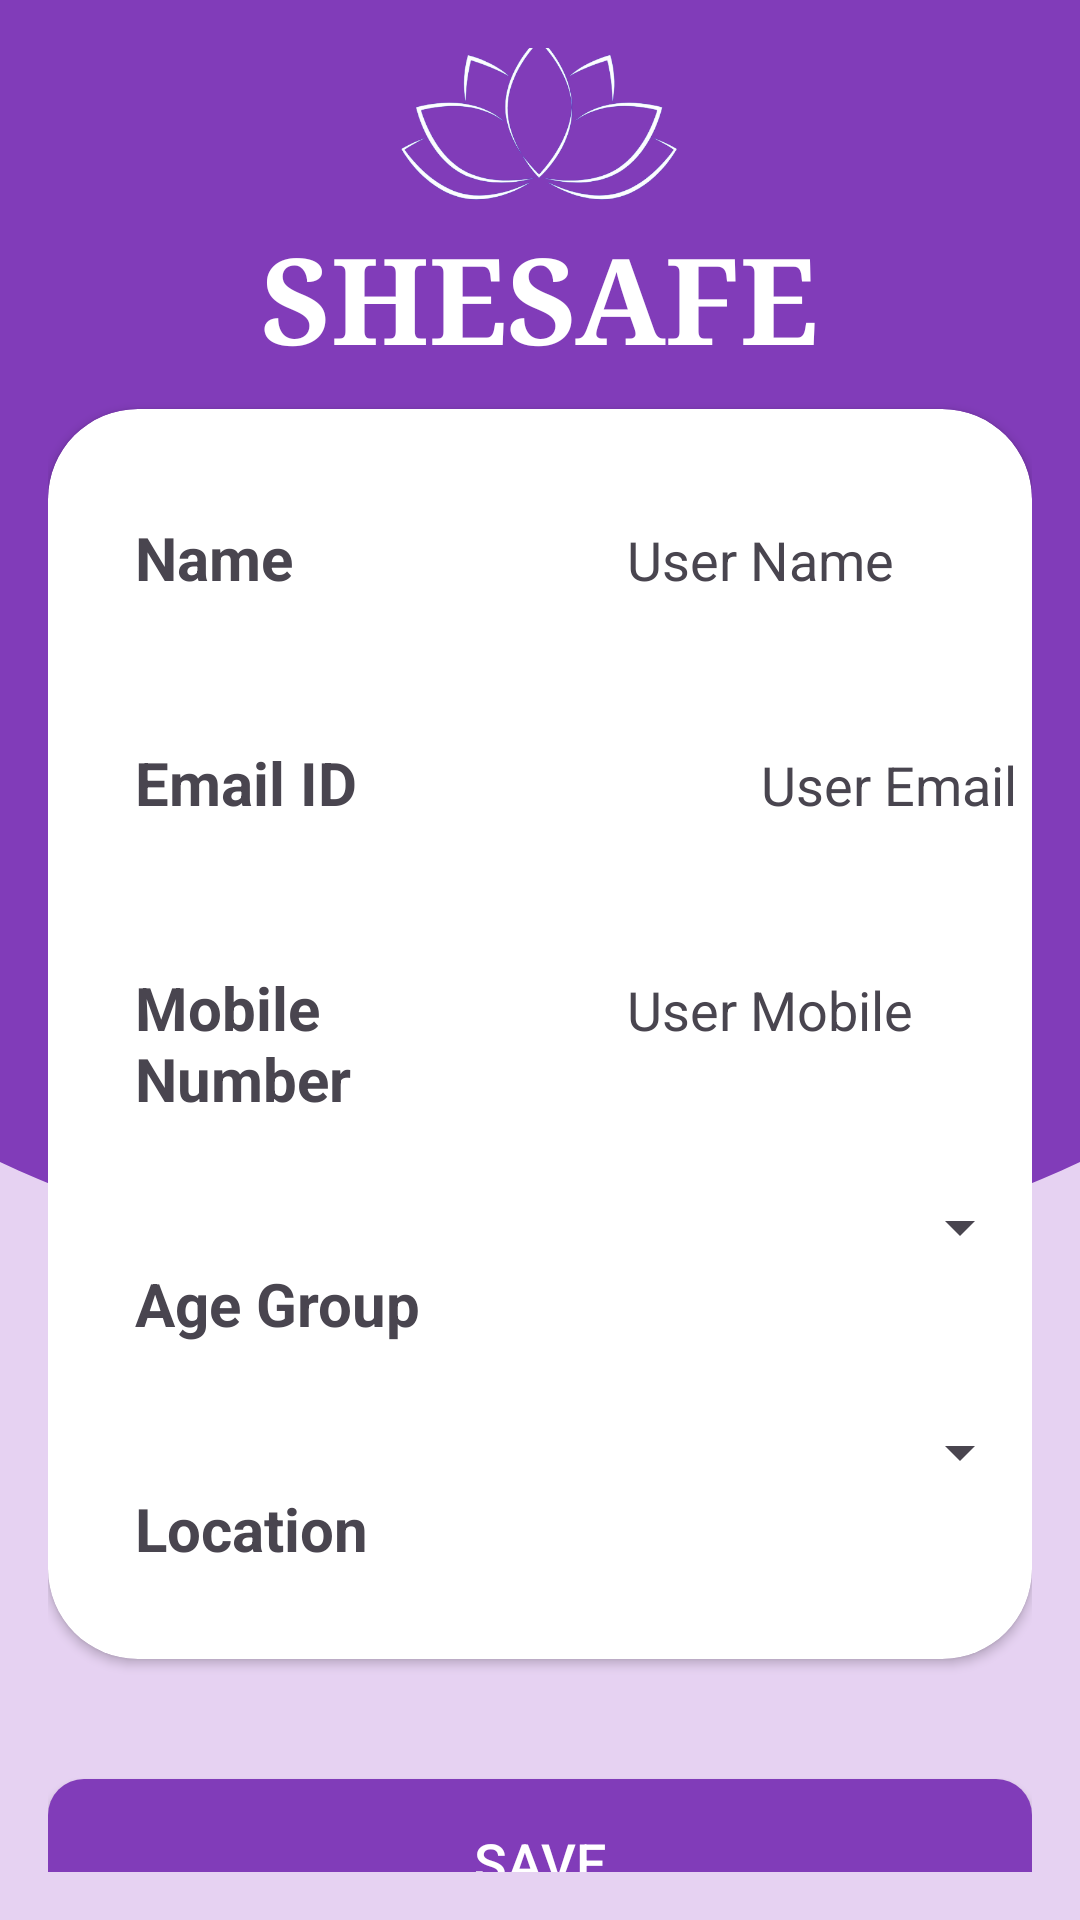

Where to tap for icons on this 1080 × 1920 app screen, as (x,y):
lotus: (539,124)
